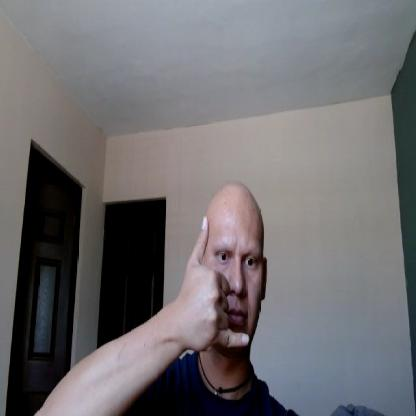Y: (183, 217, 248, 356)
